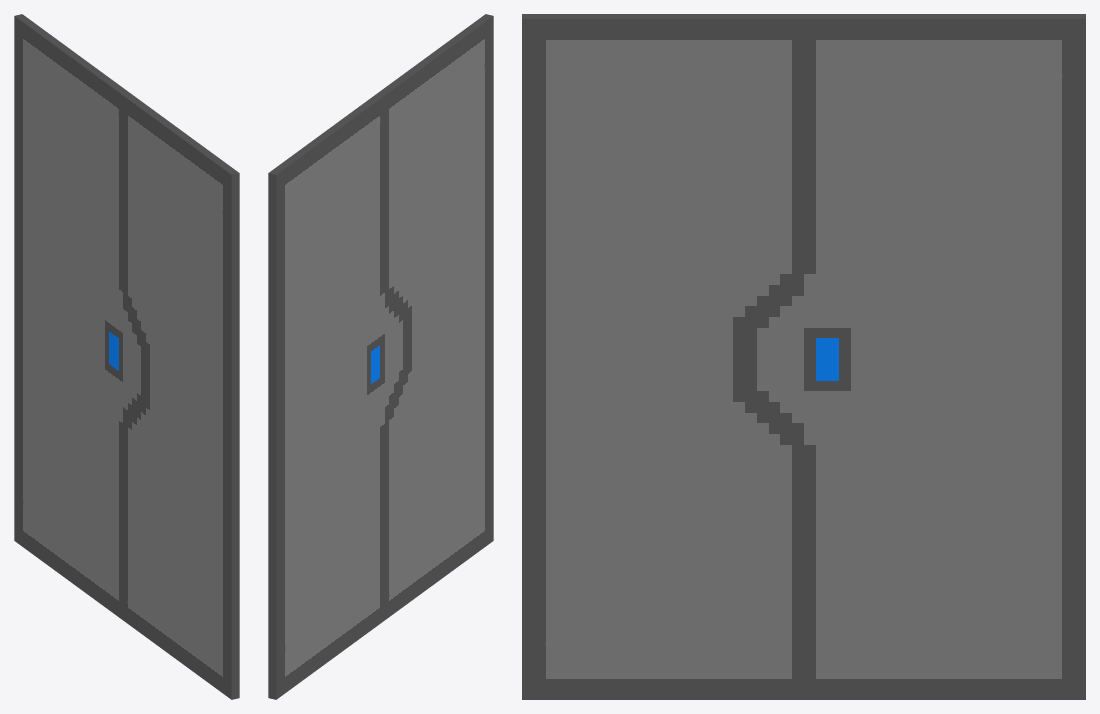
The model's file is 习武门Pro.gltf.
3 views of the same model, side by side, from view 1: azimuth 30°, elevation 25°; view 2: azimuth 150°, elevation 25°; view 3: azimuth 270°, elevation 25° (orthographic). The views are drawn at different scales.
Visible parts, largest first — view 1: 习武门_左, 习武门_右; view 2: 习武门_右, 习武门_左; view 3: 习武门_右, 习武门_左.
Boxes of the visible parts, <box> form: 习武门_左: <box>123,93,239,699</box>; 习武门_右: <box>14,14,130,619</box>; 习武门_右: <box>268,93,384,699</box>; 习武门_左: <box>377,14,493,619</box>; 习武门_右: <box>804,14,1085,699</box>; 习武门_左: <box>522,14,803,699</box>.
Size of the model in its own units: 1 by 64 by 48.02.
Materials: 1 (1 with a texture image).
